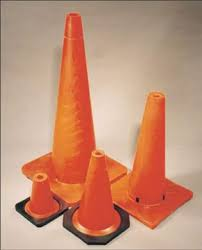cones: (22, 11, 117, 194), (113, 90, 193, 223)
